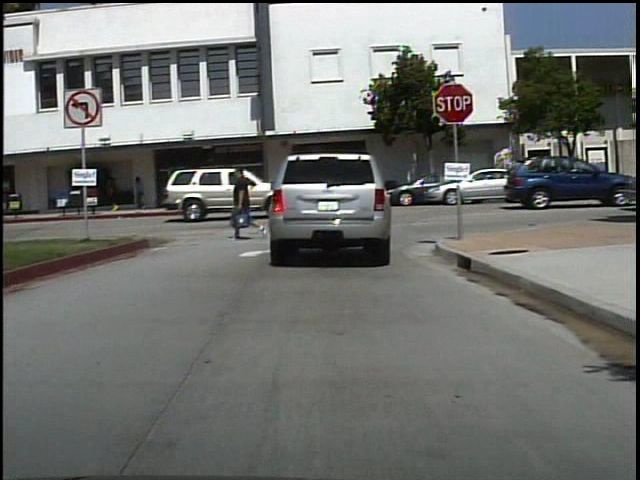person: (229, 162, 267, 243), (103, 171, 129, 211), (131, 172, 151, 210)
